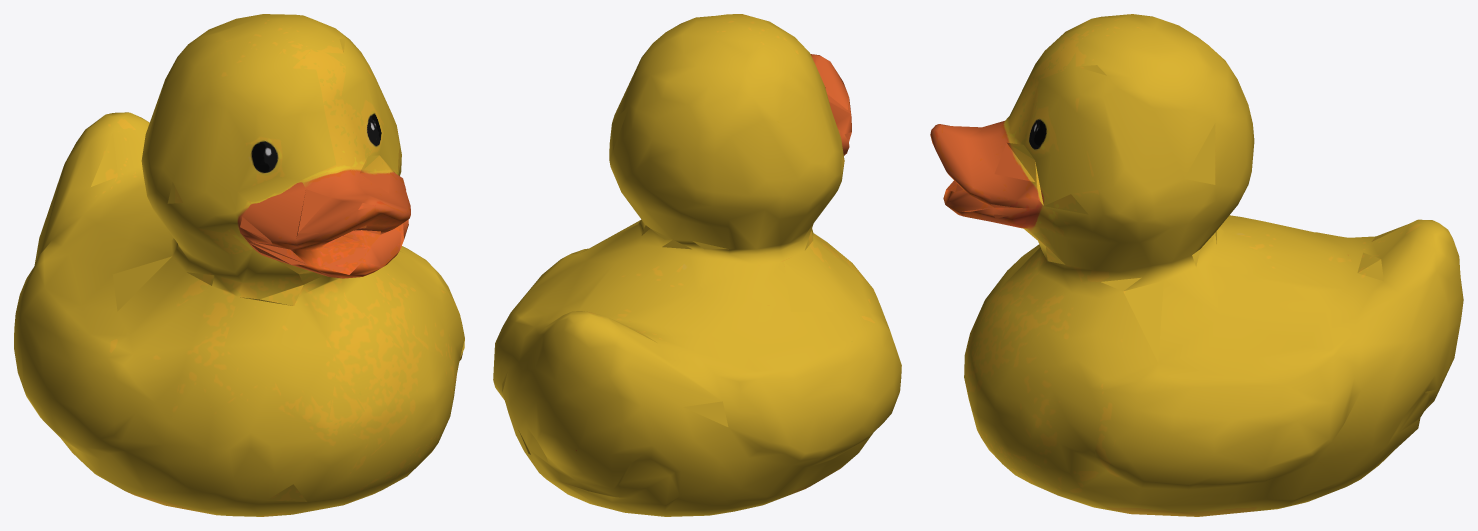
Rendered from duck.glb.
3 views of the same model, side by side, from view 1: azimuth 30°, elevation 25°; view 2: azimuth 150°, elevation 25°; view 3: azimuth 270°, elevation 25° (orthographic). The views are drawn at different scales.
Parts seen in each view (by area): view 1: Meshy_AI_Lonely_Duckling_0829010928_texture; view 2: Meshy_AI_Lonely_Duckling_0829010928_texture; view 3: Meshy_AI_Lonely_Duckling_0829010928_texture.
Part boxes in pixels (<box>): Meshy_AI_Lonely_Duckling_0829010928_texture: <box>14,14,464,516</box>; Meshy_AI_Lonely_Duckling_0829010928_texture: <box>493,14,901,516</box>; Meshy_AI_Lonely_Duckling_0829010928_texture: <box>930,14,1463,516</box>.
Bounding box in the file's own units: 1.53 × 1.7 × 1.9.
1 material, 1 textured.
